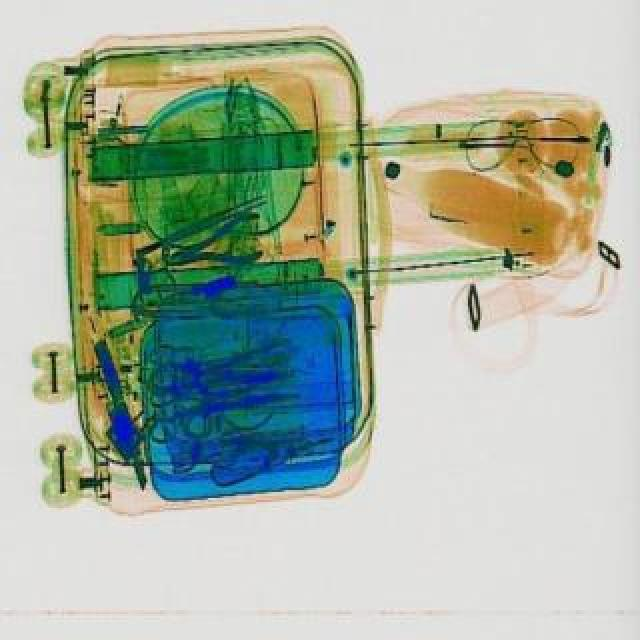wrench: (164, 214, 276, 286)
